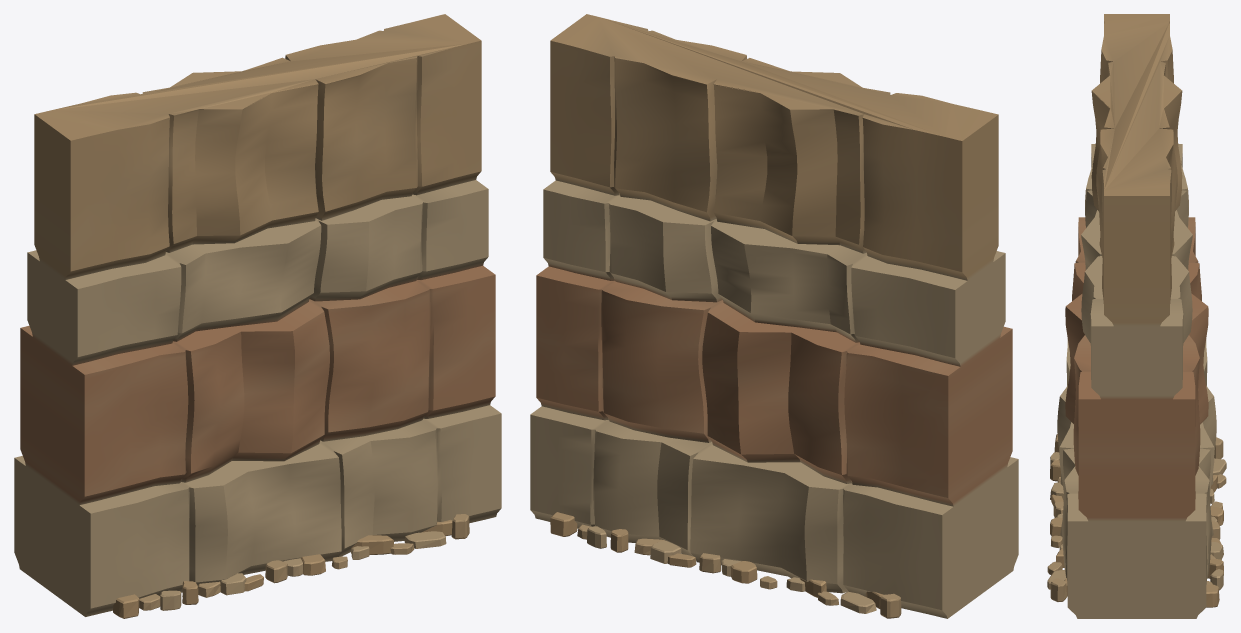
File: cliff_strata.glb
The picture shows the model from 3 angles, left to right: view 1: azimuth 30°, elevation 25°; view 2: azimuth 150°, elevation 25°; view 3: azimuth 270°, elevation 25°; orthographic projection. The views are drawn at different scales.
Parts seen in each view (by area): view 1: cliff_strata_rock; view 2: cliff_strata_rock; view 3: cliff_strata_rock, talus_16, rear_talus_00.
Part boxes in pixels (x1,y1,x2,y2): cliff_strata_rock: [14, 14, 501, 616]; cliff_strata_rock: [530, 14, 1018, 618]; cliff_strata_rock: [1057, 14, 1216, 618]; talus_16: [1050, 578, 1066, 601]; rear_talus_00: [1206, 584, 1219, 607].
Bounding box in the file's own units: 24 × 26 × 10.
